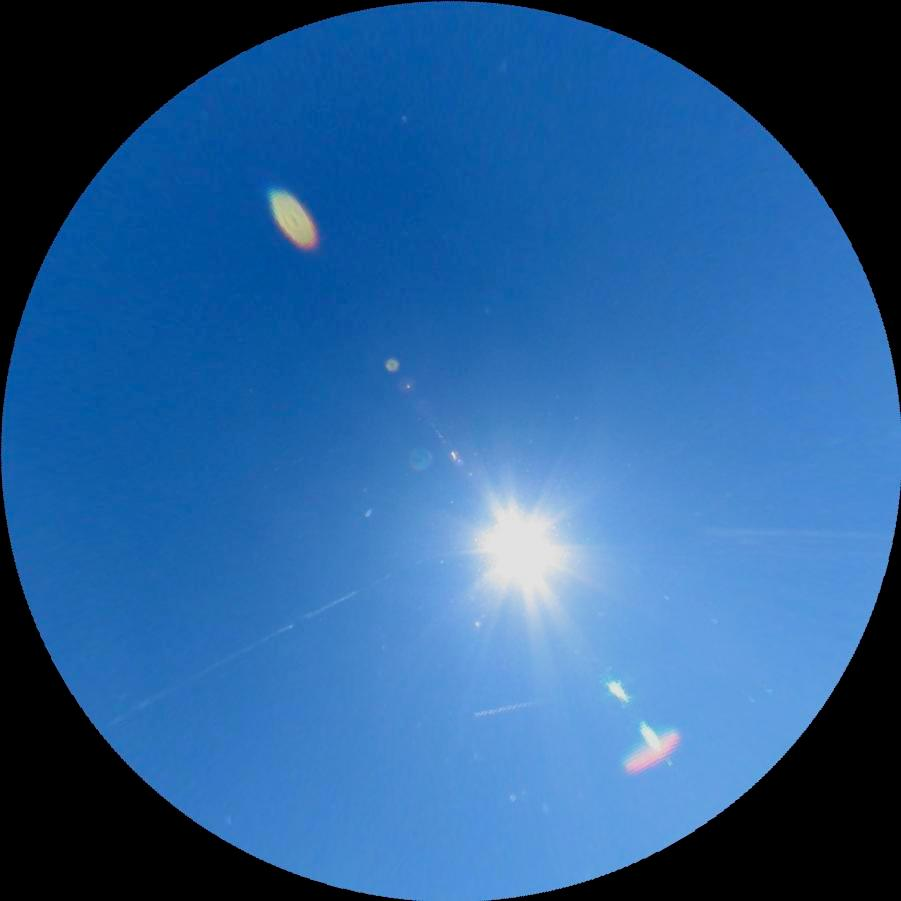contrail young: (470, 695, 547, 721)
parasite: (98, 566, 390, 731), (700, 524, 890, 550)
sun: (459, 492, 576, 608)
